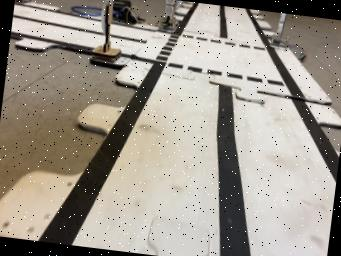street: (41, 2, 339, 256), (41, 2, 339, 256), (41, 2, 339, 256), (10, 2, 104, 54), (10, 2, 104, 54), (10, 2, 104, 54)
